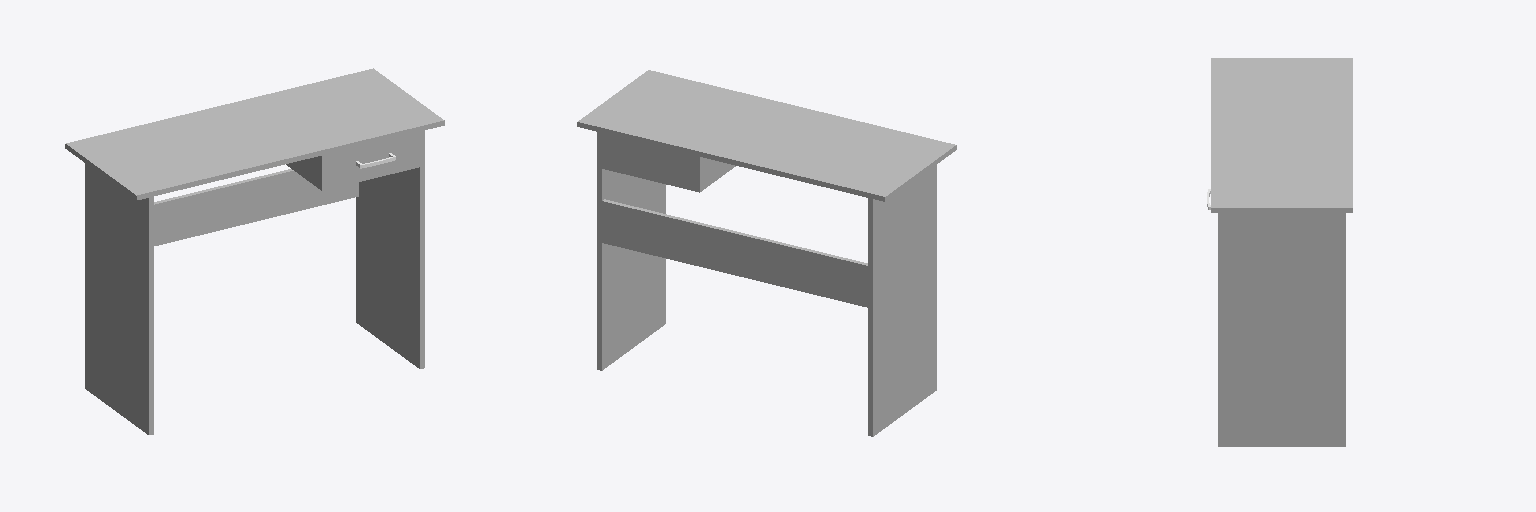
File: KARUP.obj
The picture shows the model from 3 angles: view 1: azimuth 30°, elevation 25°; view 2: azimuth 150°, elevation 25°; view 3: azimuth 270°, elevation 25°; orthographic projection.
Parts seen in each view (by area): view 1: Cube.007_Cube.008; view 2: Cube.007_Cube.008; view 3: Cube.007_Cube.008.
Boxes of the visible parts, x1=… form: Cube.007_Cube.008: x1=65, y1=68, x2=444, y2=434; Cube.007_Cube.008: x1=577, y1=70, x2=956, y2=436; Cube.007_Cube.008: x1=1211, y1=58, x2=1352, y2=446.
Bounding box in the file's own units: 2 × 1.53 × 0.8224.